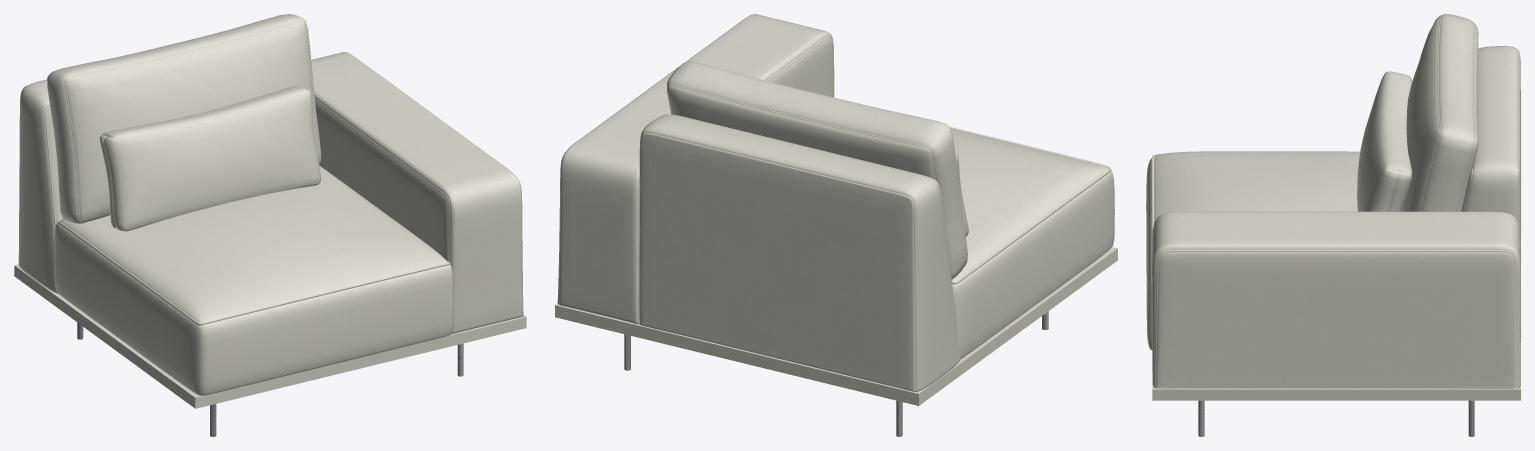
Rendered from single_arm(L)1.glb.
The picture shows the model from 3 angles, left to right: view 1: azimuth 30°, elevation 25°; view 2: azimuth 150°, elevation 25°; view 3: azimuth 270°, elevation 25°; orthographic projection. The views are drawn at different scales.
Visible parts, largest first — view 1: group_3, group_4, group_1, group_0, group_5, instance_0.002; view 2: group_5, group_3, group_4, group_1, instance_0.002; view 3: group_4, group_3, group_1, group_5, group_0, instance_0.002.
Part boxes in pixels (box(x1,y1,x2,y2)): group_3: box(54, 165, 453, 395); group_4: box(311, 52, 523, 333); group_1: box(47, 14, 321, 223); group_0: box(100, 86, 320, 231); group_5: box(18, 79, 61, 293); instance_0.002: box(14, 264, 526, 408); group_5: box(639, 114, 960, 391); group_3: box(950, 127, 1114, 358); group_4: box(557, 14, 834, 324); group_1: box(667, 61, 967, 279); instance_0.002: box(555, 247, 1117, 405); group_4: box(1152, 211, 1520, 388); group_3: box(1146, 151, 1360, 350); group_1: box(1401, 14, 1478, 211); group_5: box(1461, 46, 1520, 342); group_0: box(1357, 71, 1412, 211); instance_0.002: box(1152, 343, 1520, 400).
Size of the model in its own units: 0.95 by 0.7699 by 0.9152.
4 materials, 4 textured.
